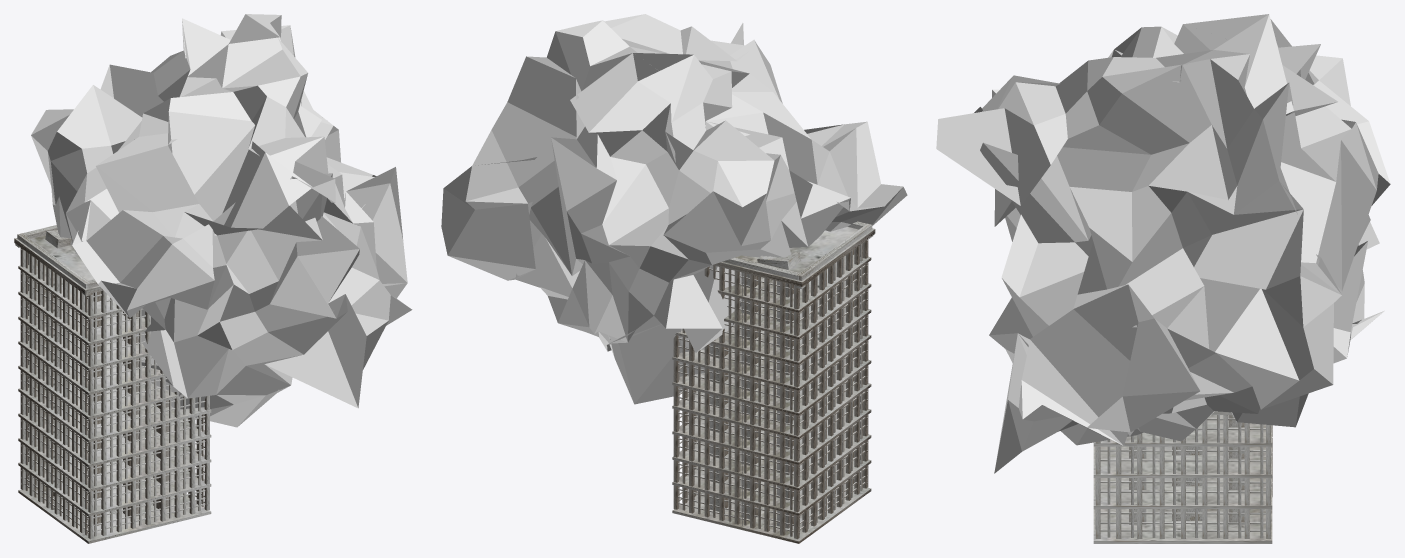
The model's file is 末日危楼.glb.
The picture shows the model from 3 angles, left to right: view 1: azimuth 30°, elevation 25°; view 2: azimuth 150°, elevation 25°; view 3: azimuth 270°, elevation 25°; orthographic projection. The views are drawn at different scales.
Parts seen in each view (by area): view 1: 立方体, 高楼; view 2: 立方体, 高楼; view 3: 立方体, 高楼.
Boxes of the visible parts, box(x1,y1,x2,y2) form: 立方体: box(31, 14, 412, 427); 高楼: box(14, 225, 211, 543); 立方体: box(441, 14, 907, 404); 高楼: box(672, 221, 875, 543); 立方体: box(936, 14, 1390, 473); 高楼: box(1093, 411, 1272, 543).
Size of the model in its own units: 263 by 313 by 233.
Materials: 1 (1 with a texture image).
